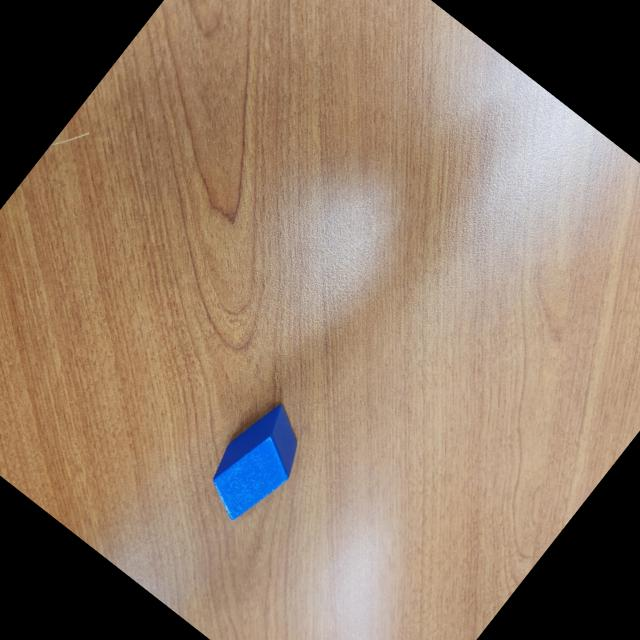blue: (190, 392, 322, 532)
